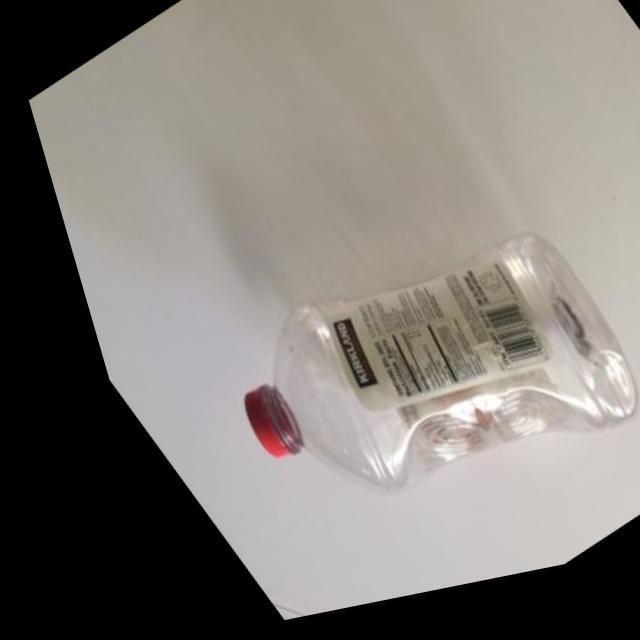plastic: (86, 102, 640, 633)
